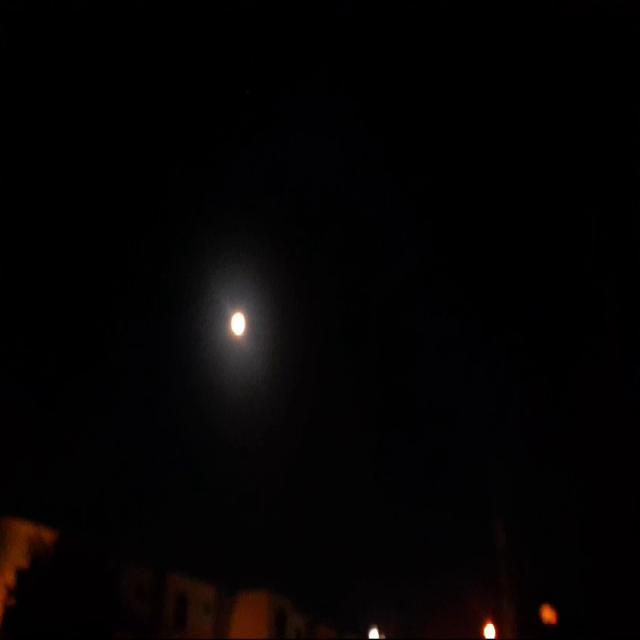moon: (230, 306, 252, 346)
